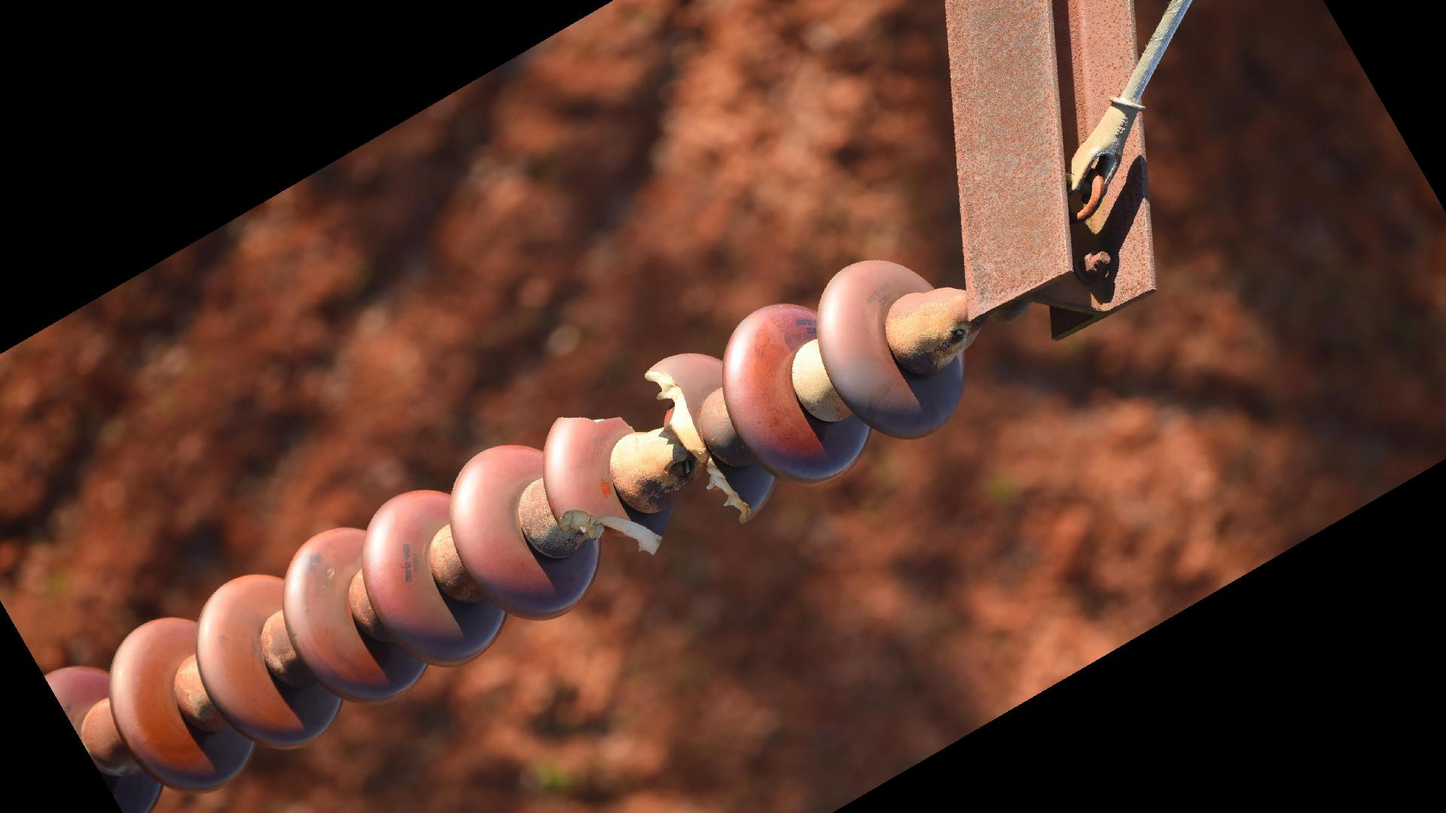insulator: (35, 254, 971, 813)
insulator_breakage: (638, 363, 761, 529), (552, 501, 666, 561), (551, 410, 640, 436)
